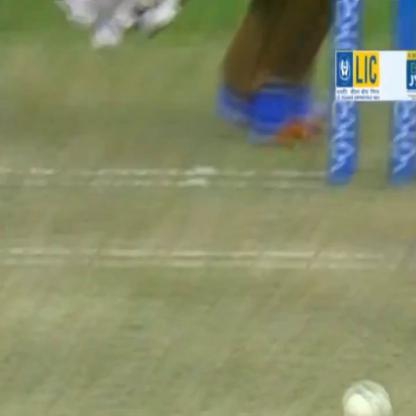ball: (337, 375, 390, 403), (330, 399, 400, 413)
